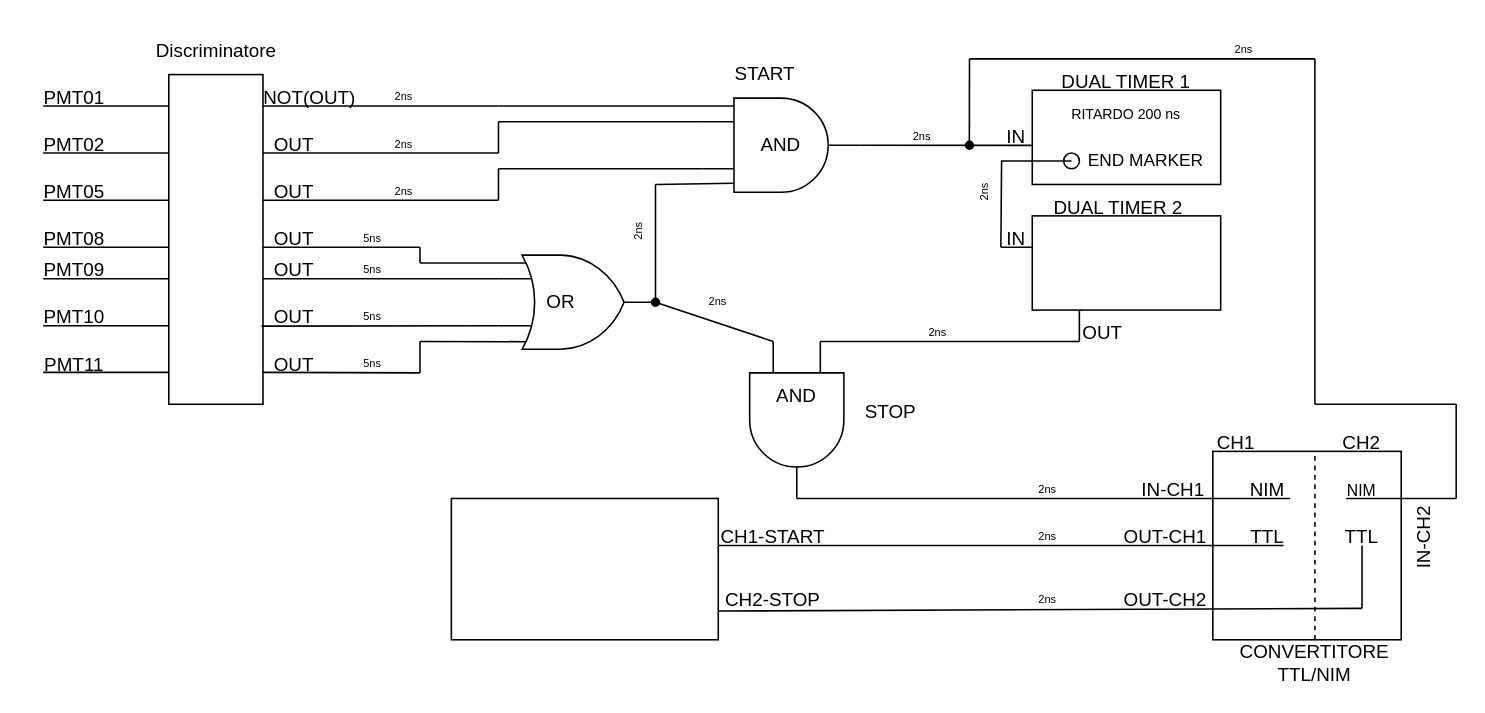
Image size: 1485x713. Some labels were removed from this diagram. Here are the shapes that lost their labels. From the top down, the box of each, then its label:
(1031, 214, 1221, 310): ALLARGA 20 μ s
(450, 497, 718, 640): FPGA
